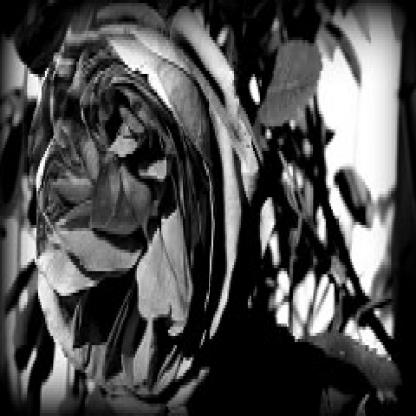Rose-Mawar: (27, 7, 251, 402)
